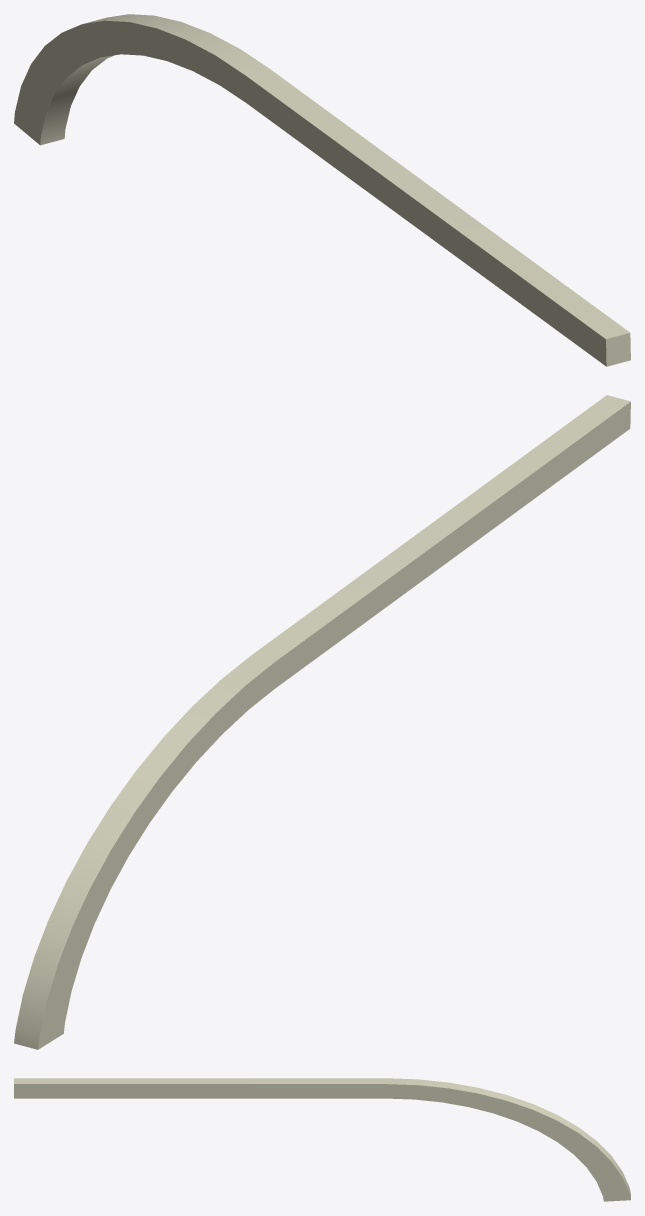
File: original-8.obj
The picture shows the model from 3 angles, top to bottom: view 1: azimuth 30°, elevation 25°; view 2: azimuth 150°, elevation 25°; view 3: azimuth 270°, elevation 25°; orthographic projection. The views are drawn at different scales.
Parts seen in each view (by area): view 1: Component_1_1/Component_1/mesh5/mesh5-geometry#mesh5-geometry; view 2: Component_1_1/Component_1/mesh5/mesh5-geometry#mesh5-geometry; view 3: Component_1_1/Component_1/mesh5/mesh5-geometry#mesh5-geometry.
Boxes of the visible parts, x1,y1,x2,y2 form: Component_1_1/Component_1/mesh5/mesh5-geometry#mesh5-geometry: (14,14,630,366); Component_1_1/Component_1/mesh5/mesh5-geometry#mesh5-geometry: (14,395,630,1049); Component_1_1/Component_1/mesh5/mesh5-geometry#mesh5-geometry: (14,1078,630,1201).
Size of the model in its own units: 0.0314 by 0.2311 by 1.11.
